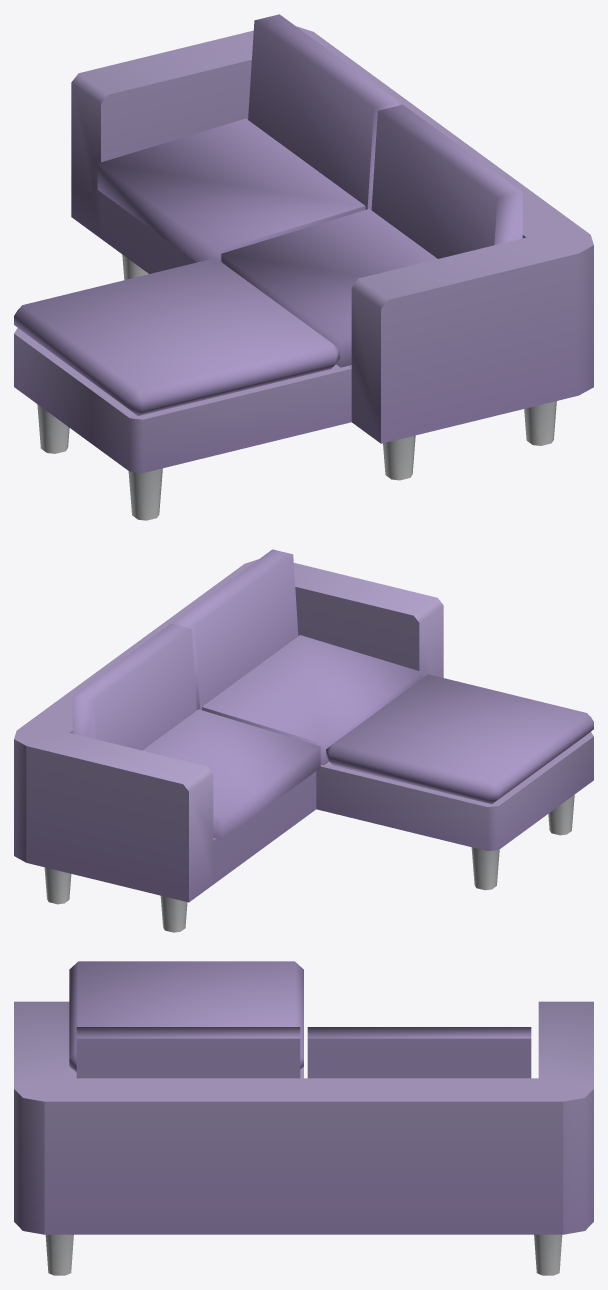
The model's file is stockholm-sofa-lounge.glb.
3 views of the same model, one above another, from view 1: azimuth 30°, elevation 25°; view 2: azimuth 150°, elevation 25°; view 3: azimuth 270°, elevation 25° (orthographic). The views are drawn at different scales.
Visible parts, largest first — view 1: stockholm-sofa-lounge; view 2: stockholm-sofa-lounge; view 3: stockholm-sofa-lounge.
Boxes of the visible parts, x1,y1,x2,y2 form: stockholm-sofa-lounge: (14, 14, 593, 520); stockholm-sofa-lounge: (14, 549, 593, 932); stockholm-sofa-lounge: (14, 961, 593, 1275).
Bounding box in the file's own units: 1.32 × 0.6929 × 1.6.
